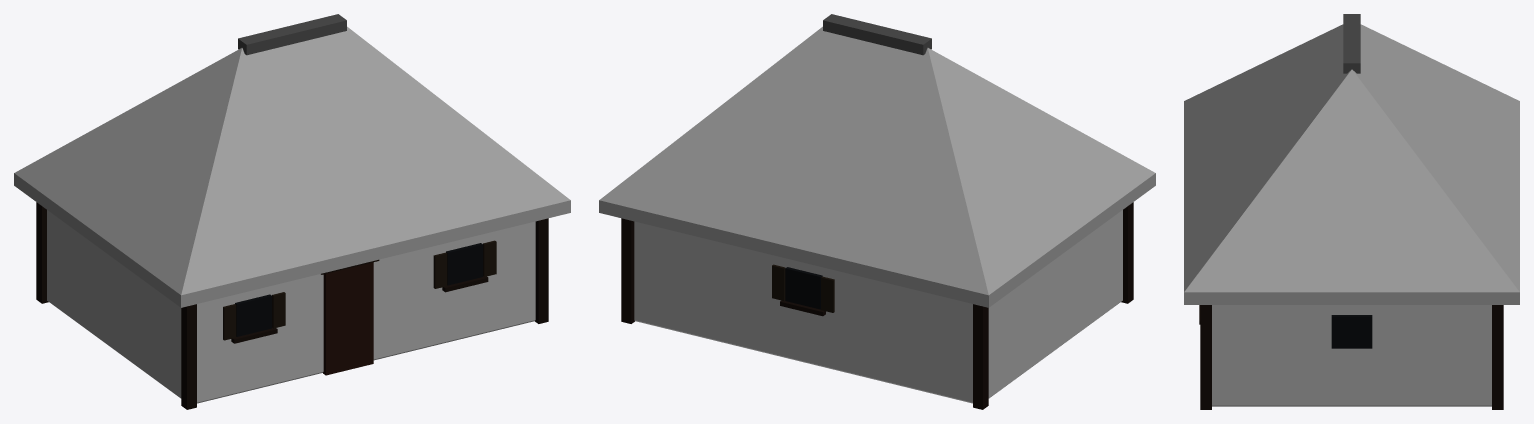
The model's file is home_cottage_h.fbx.
3 renders of one model, left to right at view 1: azimuth 30°, elevation 25°; view 2: azimuth 150°, elevation 25°; view 3: azimuth 270°, elevation 25°, orthographic.
Parts seen in each view (by area): view 1: home_cottage_h; view 2: home_cottage_h; view 3: home_cottage_h.
Part boxes in pixels (x1,y1,x2,y2): home_cottage_h: (14,14,570,409); home_cottage_h: (599,14,1155,409); home_cottage_h: (1184,14,1519,409).
Bounding box in the file's own units: 7.76 × 5.35 × 5.76.
